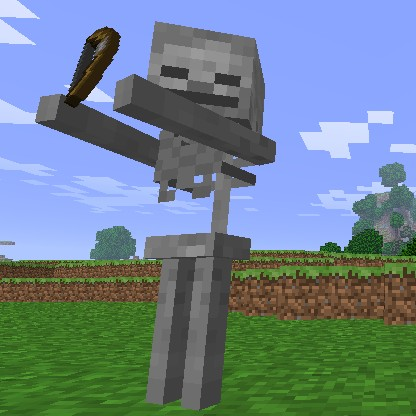skeleton: (135, 18, 276, 205)
